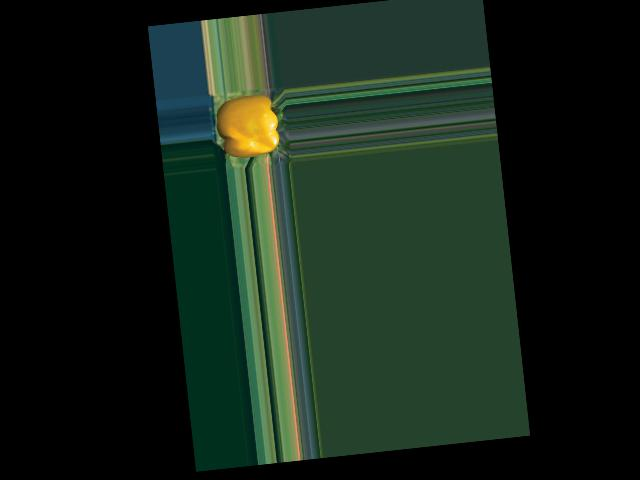bell_pepper: (212, 88, 287, 165)
